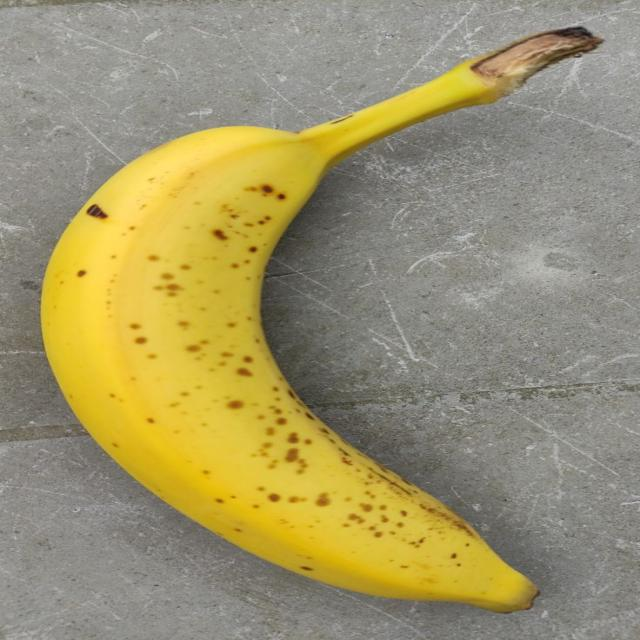unpeal banana: (42, 28, 599, 612)
